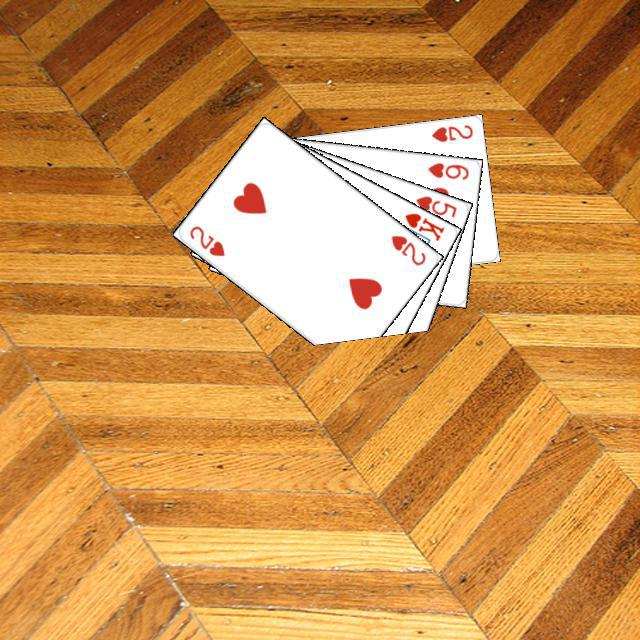2h: (184, 221, 227, 258), (386, 230, 428, 267), (427, 120, 475, 144)
5h: (410, 191, 458, 219)
6h: (423, 157, 470, 181)
Kh: (391, 208, 446, 245)
